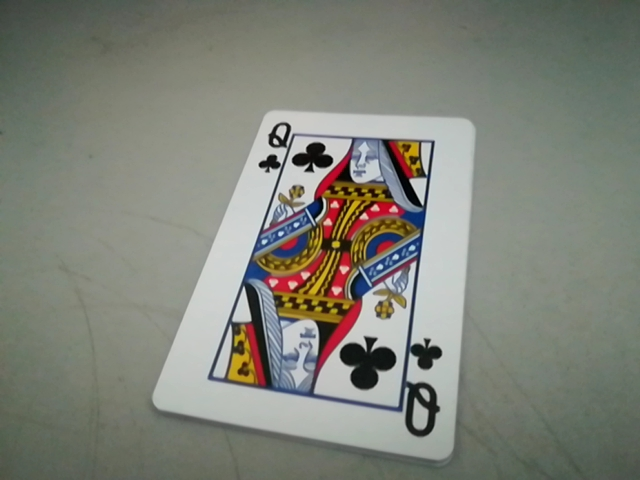mh q: (396, 337, 450, 450), (254, 119, 292, 176)
